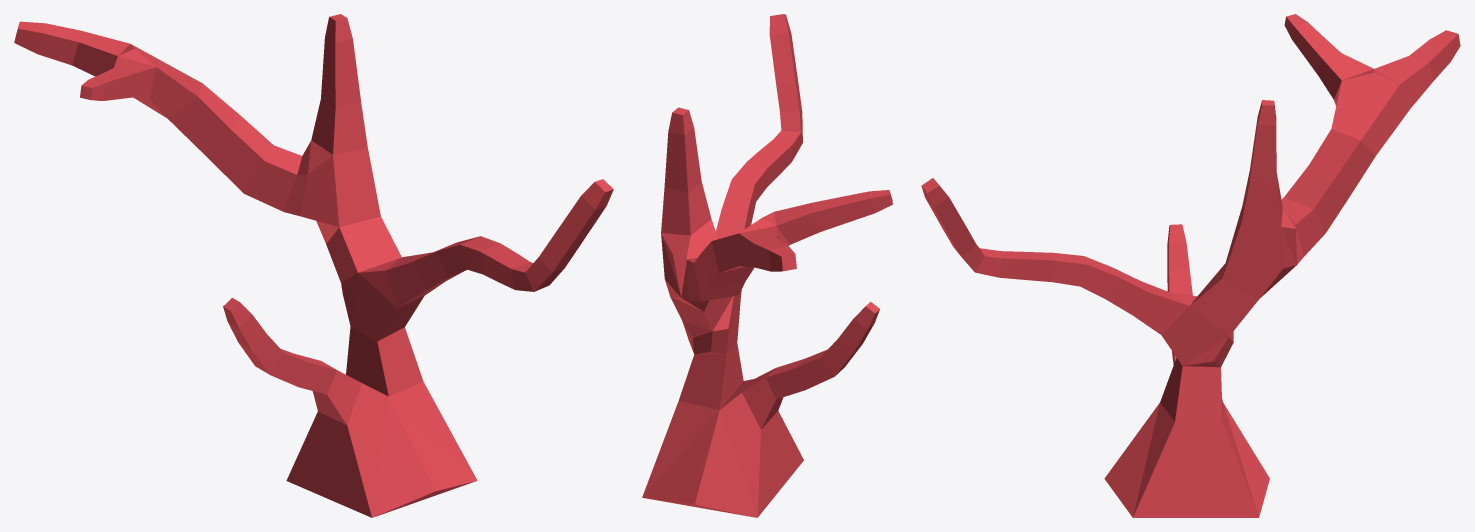
File: coral 4.fbx
3 renders of one model, left to right at view 1: azimuth 30°, elevation 25°; view 2: azimuth 150°, elevation 25°; view 3: azimuth 270°, elevation 25°, orthographic. The views are drawn at different scales.
Visible parts, largest first — view 1: Plane; view 2: Plane; view 3: Plane.
Part boxes in pixels (x1=…): Plane: x1=14, y1=14, x2=613, y2=517; Plane: x1=642, y1=14, x2=892, y2=517; Plane: x1=921, y1=14, x2=1460, y2=517.
Bounding box in the file's own units: 118 × 148 × 182.
